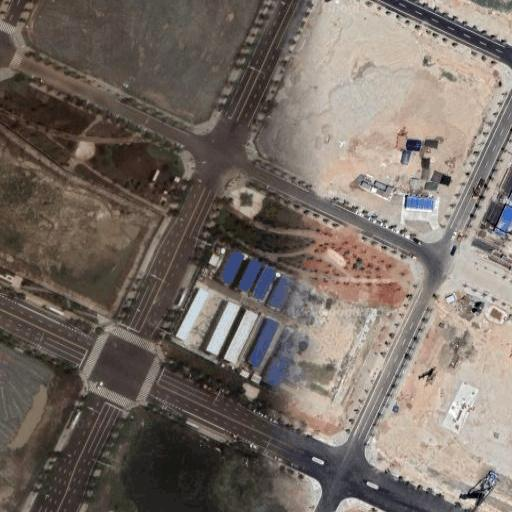building: (257, 325, 304, 391), (203, 301, 237, 355), (222, 309, 256, 363), (175, 288, 209, 341), (245, 317, 278, 366), (215, 248, 244, 285), (333, 492, 383, 512), (267, 276, 295, 311), (237, 258, 263, 292), (251, 267, 276, 302), (495, 205, 512, 234), (405, 198, 433, 209)
